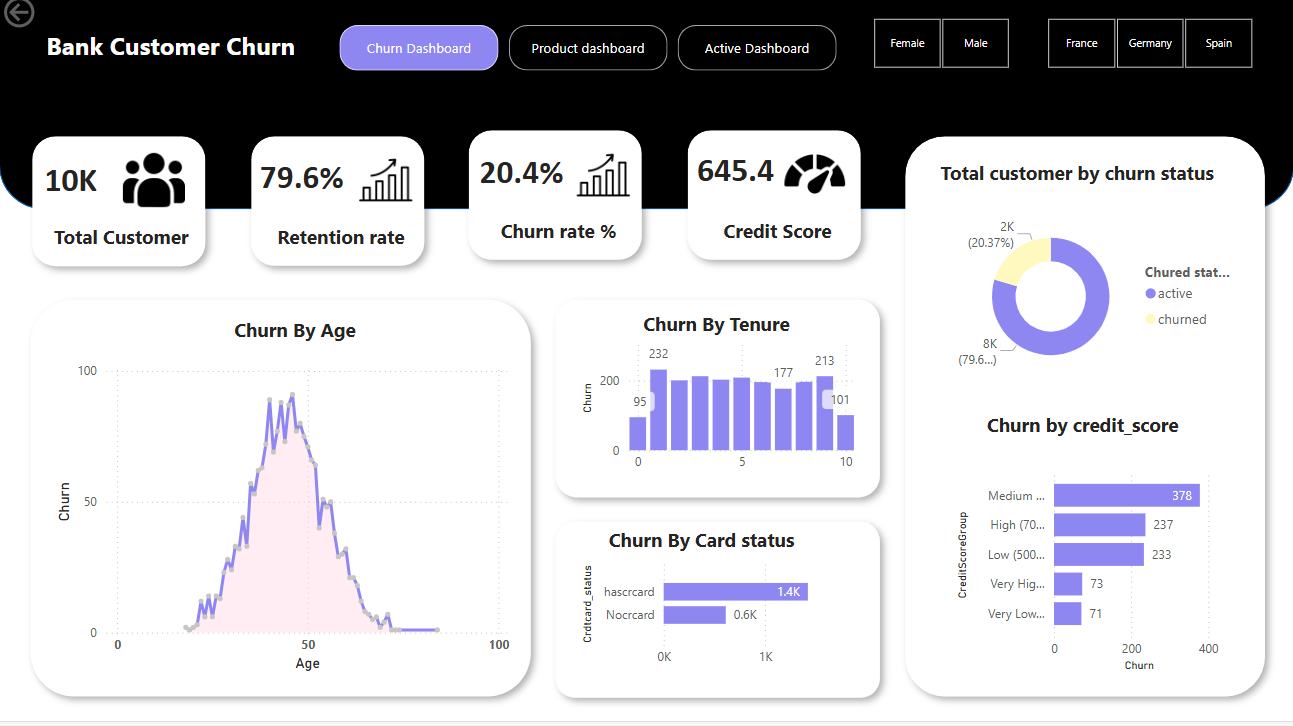

This screenshot's page, from the dashboard's own definition file:
{"tool":"powerbi","page":{"name":"Churn Dashboard","canvas":[1280,720],"ordinal":0},"visuals":[{"type":"shape","box":[0,6.1,1280,208.8],"z":0},{"type":"shape","box":[451.9,125,195,152],"z":0,"group":"g3"},{"type":"shape","box":[668.5,125,195,152],"z":0,"group":"g4"},{"type":"shape","box":[21,131,195,152.4],"z":0,"group":"g1"},{"type":"shape","box":[236.5,131,195,152],"z":0,"group":"g2"},{"type":"textbox","box":[22.8,31.6,294.7,50.9],"z":1000},{"type":"card","fields":{"Values":["KPI.Credit score Churned"]},"box":[676.1,141.8,103.6,67],"z":1000,"group":"g4"},{"type":"card","fields":{"Values":["KPI.churn Rate"]},"box":[467.1,143.3,99,68.6],"z":1000,"group":"g3"},{"type":"card","fields":{"Values":["KPI.Total_customer"]},"box":[22.8,146.7,96.5,73.7],"z":1000,"group":"g1"},{"type":"card","fields":{"Values":["KPI.rention rate"]},"box":[247.2,147.8,103.6,68.6],"z":1000,"group":"g2"},{"type":"shape","box":[882.3,131,379.4,577.5],"z":2000},{"type":"textbox","box":[473.9,217.9,157,42.7],"z":2000,"group":"g3"},{"type":"textbox","box":[690.5,217.9,157,42.7],"z":2000,"group":"g4"},{"type":"textbox","box":[39.3,223.9,164.6,38.1],"z":2000,"group":"g1"},{"type":"textbox","box":[258.5,223.9,157,42.7],"z":2000,"group":"g2"},{"type":"shape","box":[19.8,292.6,518.1,416],"z":3000},{"type":"group","id":"g1","title":"Group 1","box":[21,131,195,152.4],"z":4000,"group":"g9"},{"type":"areaChart","fields":{"Category":["Bank_Churn.Age"],"Y":["KPI.Churn"]},"box":[50.3,359.6,458.7,315.4],"z":4000},{"type":"group","id":"g2","title":"Group 1","box":[236.5,131,195,152],"z":5000,"group":"g6"},{"type":"donutChart","fields":{"Category":["Bank_Churn.Chured status"],"Y":["KPI.Total_customer"]},"box":[940.2,198.1,285,204.2],"z":5000},{"type":"clusteredBarChart","fields":{"Category":["Bank_Churn.CreditScoreGroup"],"Y":["KPI.Churn"]},"box":[940.2,460.2,285,214.9],"z":6000},{"type":"actionButton","box":[0,0,100,40],"z":7000},{"type":"shape","box":[537.9,510.5,344.4,198.1],"z":8000},{"type":"shape","box":[537.9,292.6,344.4,219.4],"z":9000},{"type":"lineClusteredColumnComboChart","fields":{"Category":["Bank_Churn.Tenure"],"Y":["KPI.Churn"]},"box":[569.9,335.2,278.9,147.8],"z":10000},{"type":"barChart","fields":{"Category":["Bank_Churn.Crdtcard_status"],"Y":["KPI.Churn"]},"box":[569.9,550.1,260.6,125],"z":11000},{"type":"pageNavigator","box":[336.8,32,493.7,45.7],"z":12000},{"type":"slicer","fields":{"Values":["Bank_Churn.Geography"]},"box":[1010.3,19.8,251.4,62.5],"z":13000},{"type":"slicer","fields":{"Values":["Bank_Churn.Gender"]},"box":[838.1,19.8,182.9,62.5],"z":14000},{"type":"textbox","box":[169.1,315.4,246.9,38.1],"z":15000},{"type":"textbox","box":[585.1,309.3,246.9,38.1],"z":16000},{"type":"group","id":"g3","title":"Group 1","box":[451.9,125,195,152],"z":17000,"group":"g7"},{"type":"textbox","box":[569.7,523.5,247,44.7],"z":17000},{"type":"group","id":"g4","title":"Group 1","box":[668.5,125,195,152],"z":18000,"group":"g8"},{"type":"textbox","box":[905.3,159.6,319.3,38.6],"z":18000},{"type":"textbox","box":[947.4,408.8,247.4,38.6],"z":19000},{"type":"group","id":"g5","title":"Group 2","box":[21,131,195,152.4],"z":20000},{"type":"group","id":"g6","title":"Group 3","box":[236.5,131,195,152],"z":21000},{"type":"group","id":"g7","title":"Group 4","box":[451.9,125,195,152],"z":22000},{"type":"group","id":"g8","title":"Group 5","box":[668.5,125,195,152],"z":23000},{"type":"group","id":"g9","title":"Group 6","box":[21,131,195,152.4],"z":23001,"group":"g5"},{"type":"image","box":[117.5,143.8,71.9,84.2],"z":23001,"group":"g9"},{"type":"image","box":[345.6,143.8,70.2,84.2],"z":23002,"group":"g6"},{"type":"image","box":[561.4,142.2,70.2,77.2],"z":23003,"group":"g7"},{"type":"image","box":[771.2,138.6,70.2,84.2],"z":23004,"group":"g8"}]}

Visuals, with their boxes in screenshot pixels (x1, y1, x2, y2), scaled from the page's 1280x720 canvas onto the 1293x726 screenshot:
shape: box(0, 6, 1292, 217)
shape: box(456, 126, 653, 279)
shape: box(675, 126, 872, 279)
shape: box(21, 132, 218, 286)
shape: box(239, 132, 436, 285)
textbox: box(23, 32, 321, 83)
card - KPI.Credit score Churned: box(683, 143, 788, 211)
card - KPI.churn Rate: box(472, 144, 572, 214)
card - KPI.Total_customer: box(23, 148, 121, 222)
card - KPI.rention rate: box(250, 149, 354, 218)
shape: box(891, 132, 1275, 714)
textbox: box(479, 220, 637, 263)
textbox: box(698, 220, 856, 263)
textbox: box(40, 226, 206, 264)
textbox: box(261, 226, 420, 269)
shape: box(20, 295, 543, 715)
"Group 1" group: box(21, 132, 218, 286)
areaChart - Bank_Churn.Age x KPI.Churn: box(51, 363, 514, 681)
"Group 1" group: box(239, 132, 436, 285)
donutChart - Bank_Churn.Chured status x KPI.Total_customer: box(950, 200, 1238, 406)
clusteredBarChart - Bank_Churn.CreditScoreGroup x KPI.Churn: box(950, 464, 1238, 681)
actionButton: box(0, 0, 101, 40)
shape: box(543, 515, 891, 715)
shape: box(543, 295, 891, 516)
lineClusteredColumnComboChart - Bank_Churn.Tenure x KPI.Churn: box(576, 338, 857, 487)
barChart - Bank_Churn.Crdtcard_status x KPI.Churn: box(576, 555, 839, 681)
pageNavigator: box(340, 32, 839, 78)
slicer - Bank_Churn.Geography: box(1021, 20, 1275, 83)
slicer - Bank_Churn.Gender: box(847, 20, 1031, 83)
textbox: box(171, 318, 420, 356)
textbox: box(591, 312, 840, 350)
"Group 1" group: box(456, 126, 653, 279)
textbox: box(575, 528, 825, 573)
"Group 1" group: box(675, 126, 872, 279)
textbox: box(914, 161, 1237, 200)
textbox: box(957, 412, 1207, 451)
"Group 2" group: box(21, 132, 218, 286)
"Group 3" group: box(239, 132, 436, 285)
"Group 4" group: box(456, 126, 653, 279)
"Group 5" group: box(675, 126, 872, 279)
"Group 6" group: box(21, 132, 218, 286)
image: box(119, 145, 191, 230)
image: box(349, 145, 420, 230)
image: box(567, 143, 638, 221)
image: box(779, 140, 850, 225)
